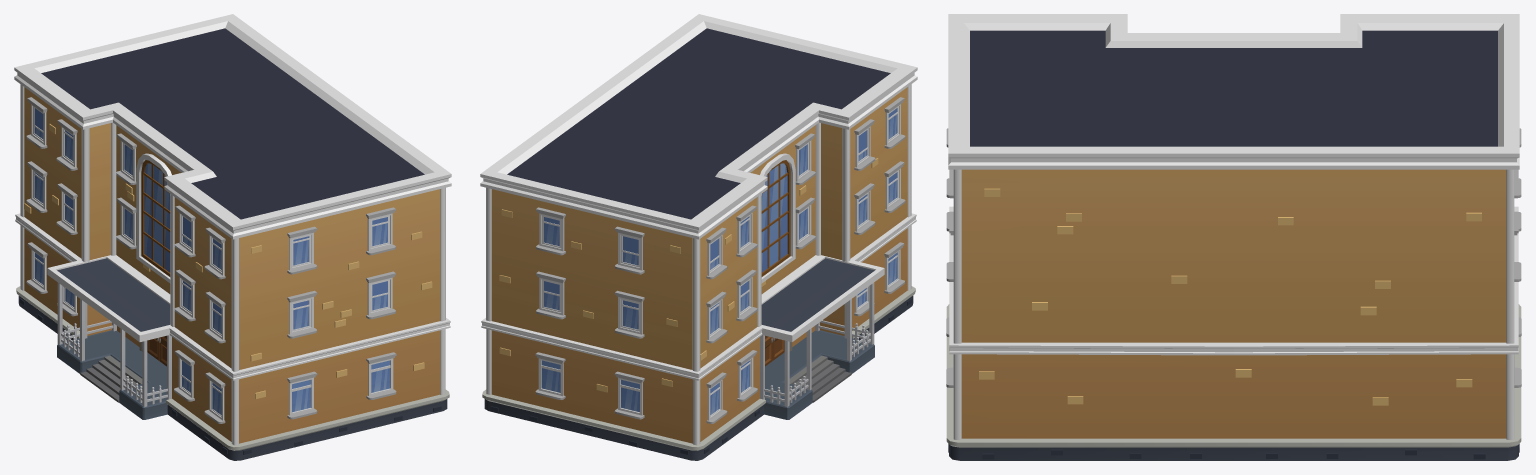
Rendered from Building_5_2_M.fbx.
3 views of the same model, side by side, from view 1: azimuth 30°, elevation 25°; view 2: azimuth 150°, elevation 25°; view 3: azimuth 270°, elevation 25° (orthographic). The views are drawn at different scales.
Visible parts, largest first — view 1: Building_5_2_M; view 2: Building_5_2_M; view 3: Building_5_2_M.
Boxes of the visible parts, x1,y1,x2,y2 form: Building_5_2_M: (14, 14, 451, 460); Building_5_2_M: (480, 14, 917, 460); Building_5_2_M: (946, 14, 1521, 460).
Bounding box in the file's own units: 1251 × 1126 × 1908.
